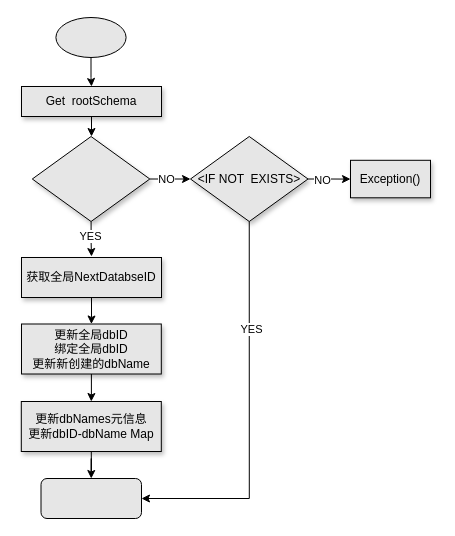
The diagram is 455 pixels wide and 536 high, and some of its shapes have lost their labels. Here are the shapes that lost their labels. From the top down, the centre of each, then its label:
pixel 90 37: CREATE DATABASE
pixel 91 180: 是否存在SubSchema
pixel 91 498: 结束
